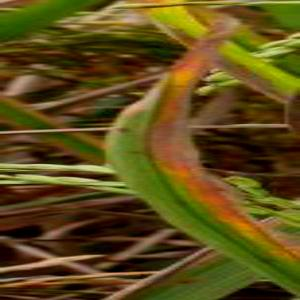2 BacterialBlight: (114, 80, 198, 229)
